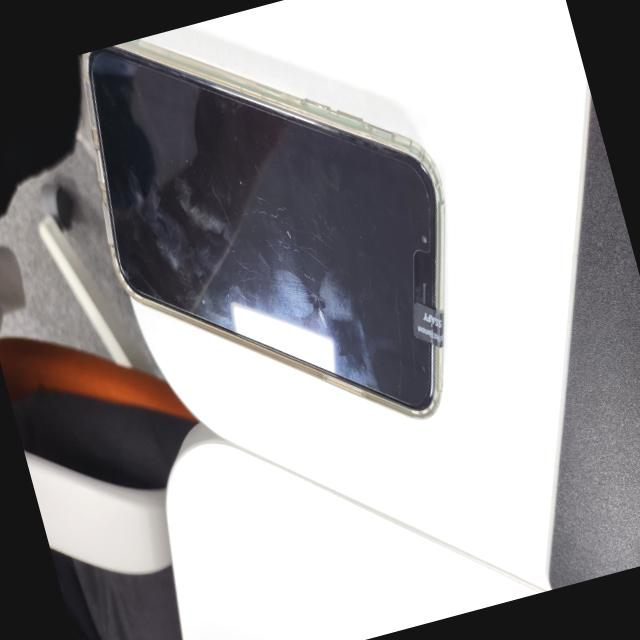phone: (59, 0, 496, 480)
sticker: (404, 292, 454, 354)
